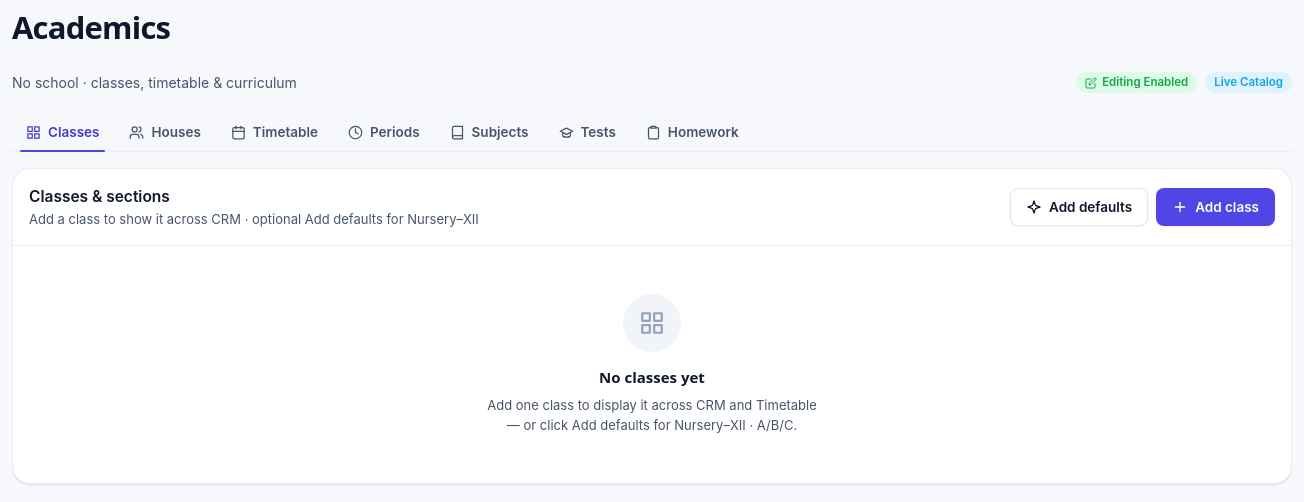
Academics — teacher-created items › Tests tab shows seeded teacher-created class tests with the Teacher app badge
Click the button "Tests". click: (587, 132)
box: [544,113,630,151]
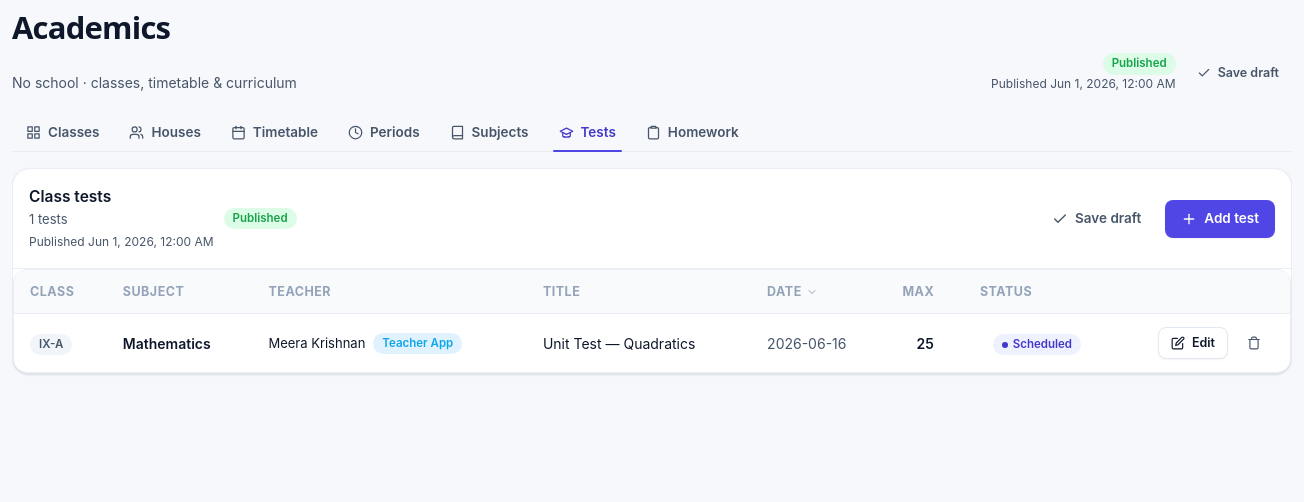
Now the text "Unit Test — Quadratics" is shown, box [527,314,751,372]
Now the text "Teacher app" is shown, box [373,333,462,354]
